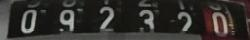digits: (175, 8, 198, 38), (210, 12, 230, 37), (137, 9, 156, 35), (98, 6, 115, 34), (20, 9, 37, 34), (59, 9, 74, 33)
